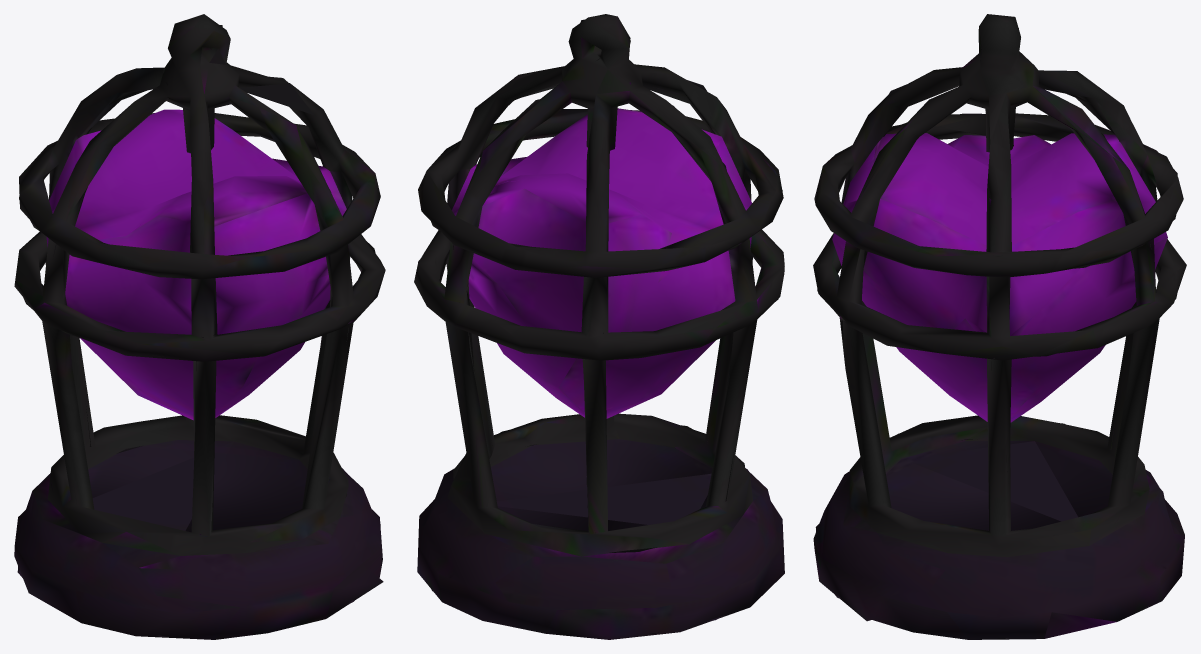
The model's file is lg-phylactery.glb.
3 views of the same model, side by side, from view 1: azimuth 30°, elevation 25°; view 2: azimuth 150°, elevation 25°; view 3: azimuth 270°, elevation 25° (orthographic).
Parts seen in each view (by area): view 1: geometry_0; view 2: geometry_0; view 3: geometry_0.
Boxes of the visible parts, x1=… form: geometry_0: x1=14, y1=14, x2=385, y2=639; geometry_0: x1=414, y1=14, x2=784, y2=639; geometry_0: x1=813, y1=14, x2=1186, y2=639.
Bounding box in the file's own units: 0.617 × 1 × 0.621.
1 material, 1 textured.
